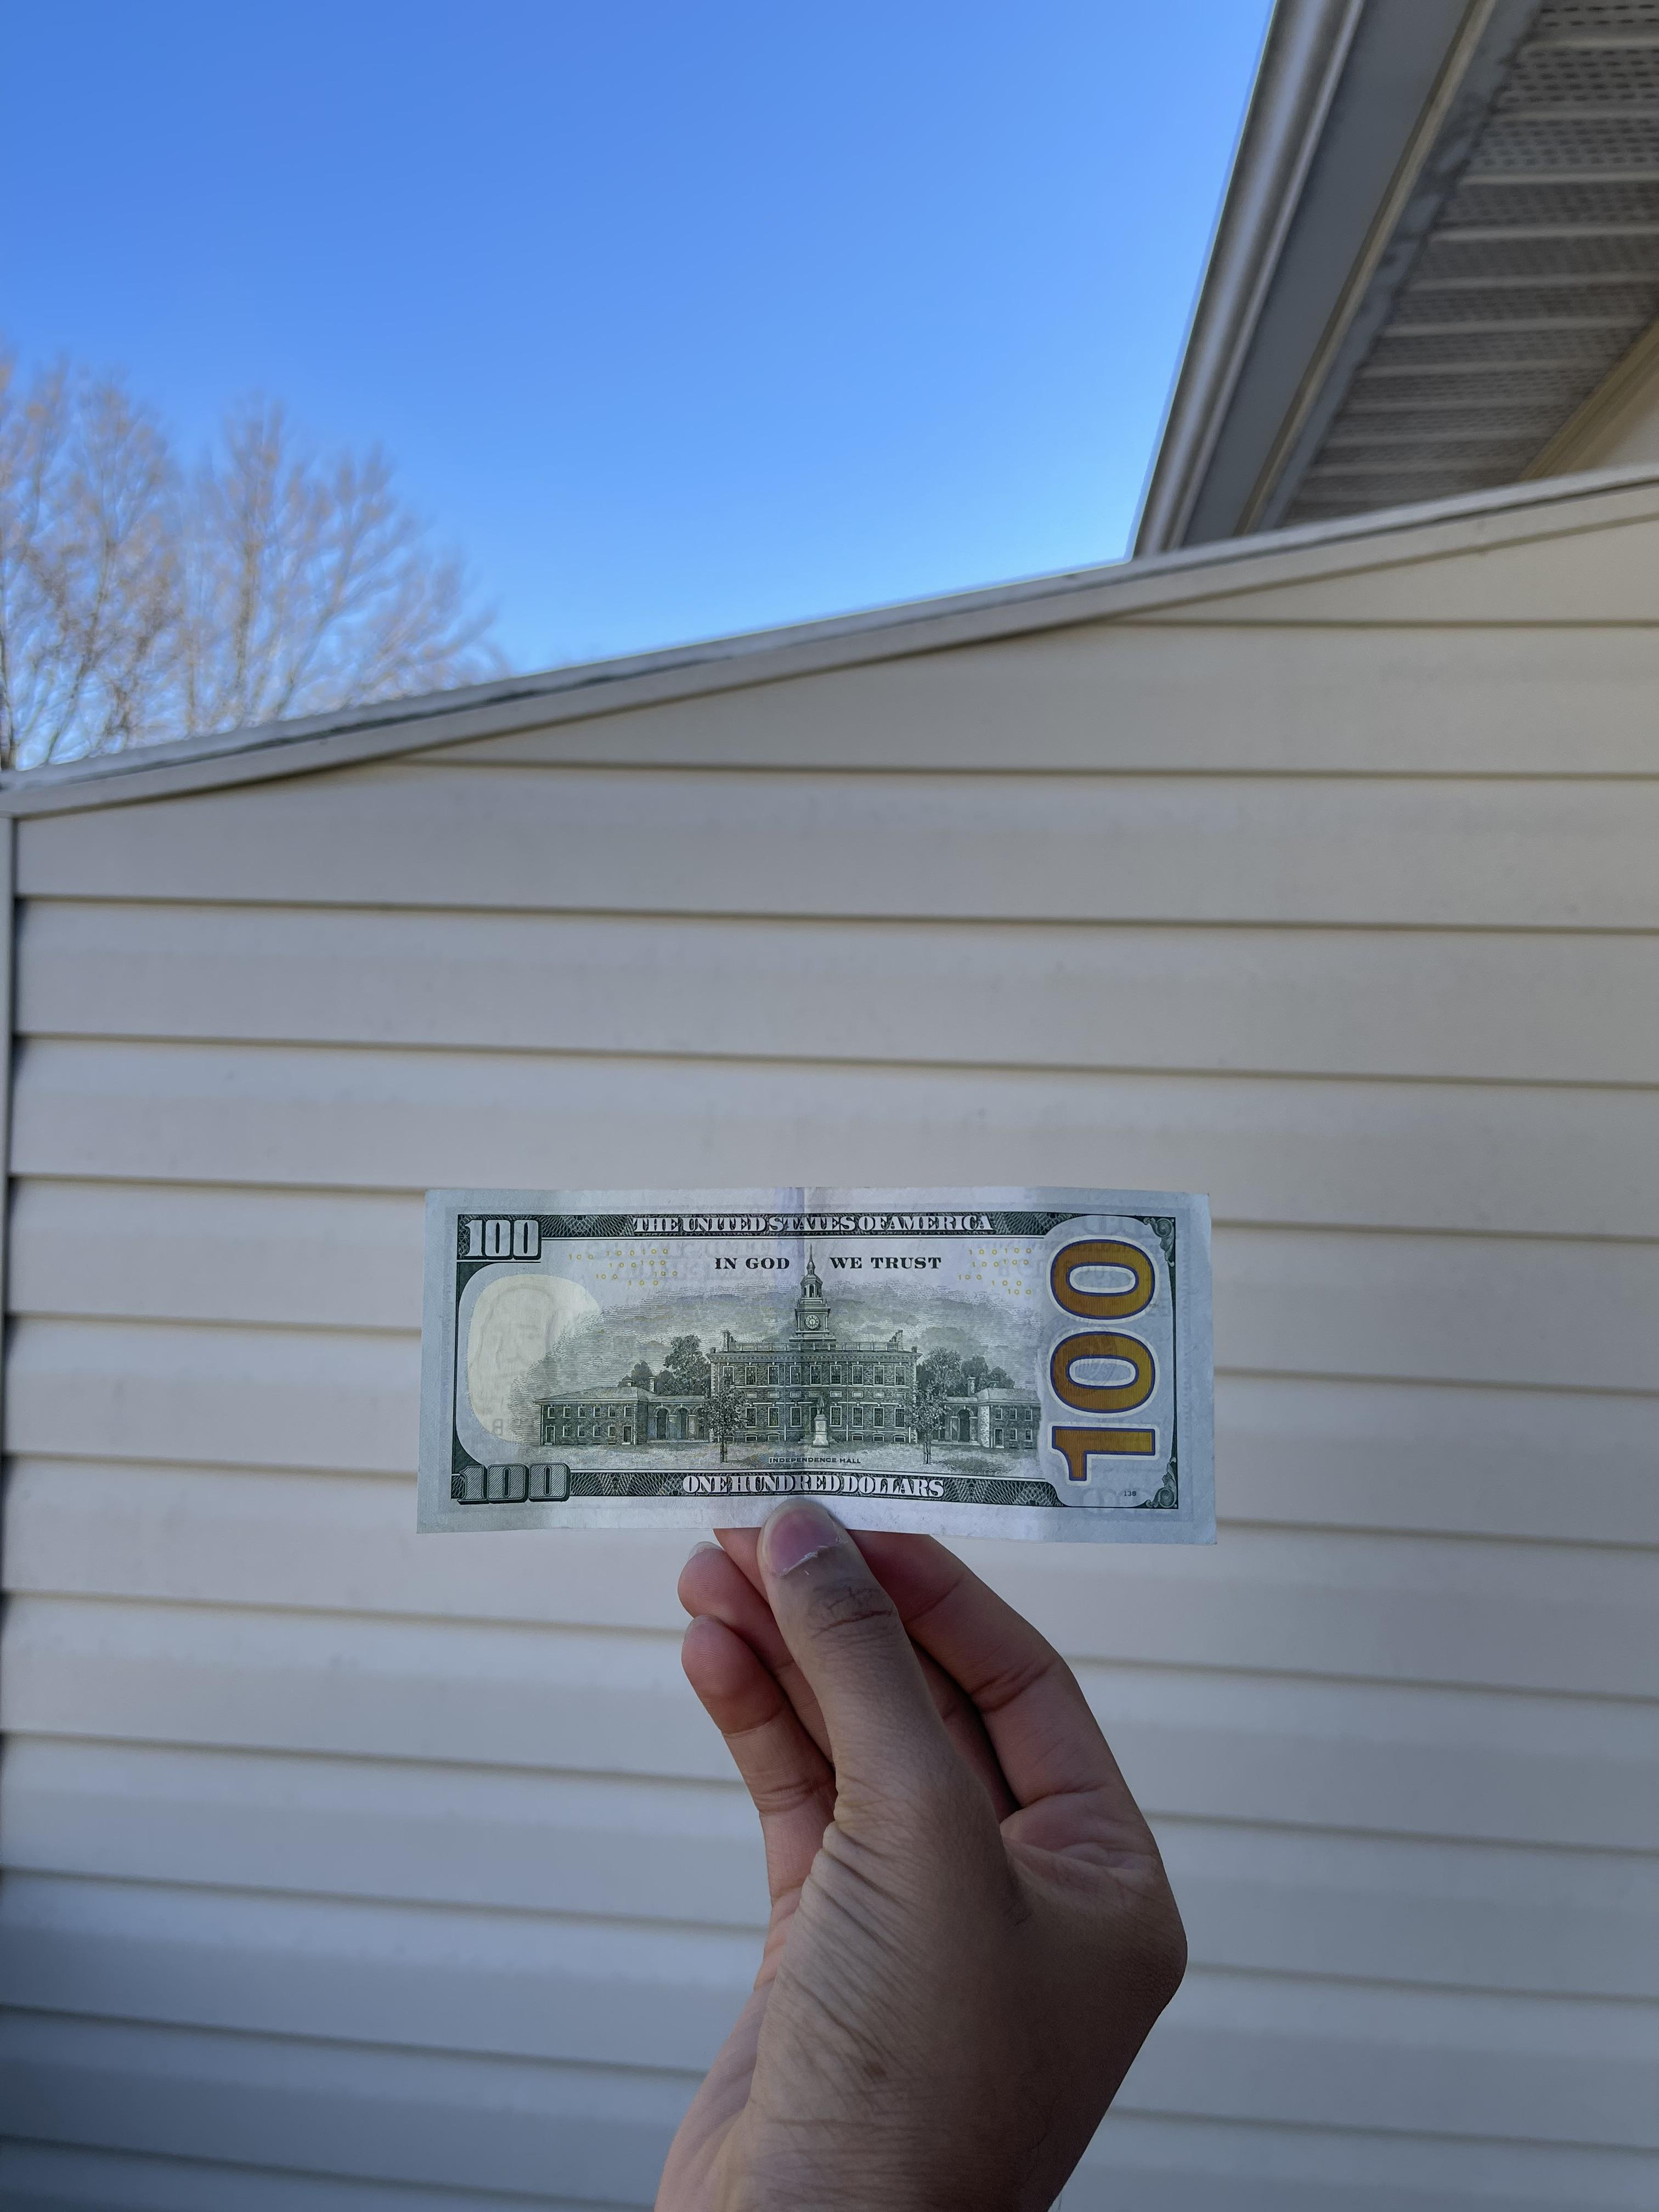HundredBill: (413, 1181, 1220, 1548)
